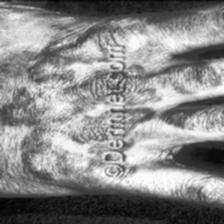Toxin: (22, 32, 106, 174), (161, 66, 218, 88), (131, 72, 153, 124), (159, 110, 224, 126), (188, 182, 224, 208)
